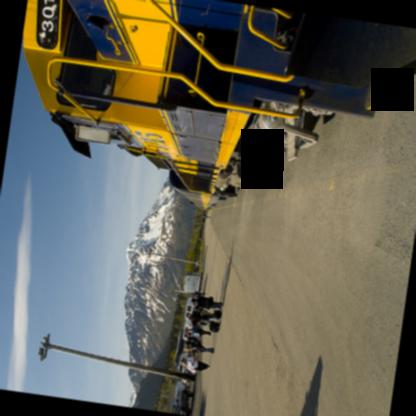suitcase: (209, 318, 220, 331), (208, 308, 221, 318), (211, 311, 221, 316)
